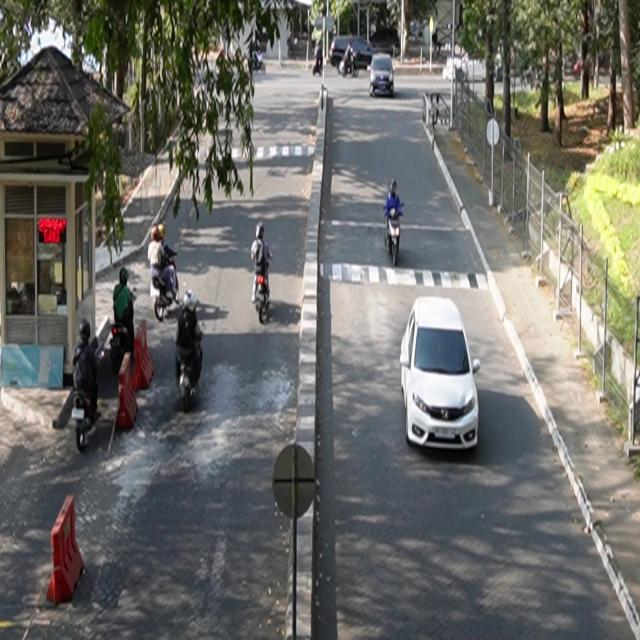car: (401, 296, 482, 452), (370, 53, 396, 98)
